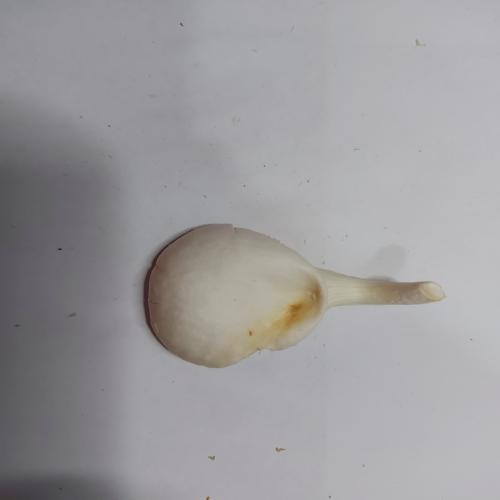Oyster Mushroom: (144, 222, 447, 369)
